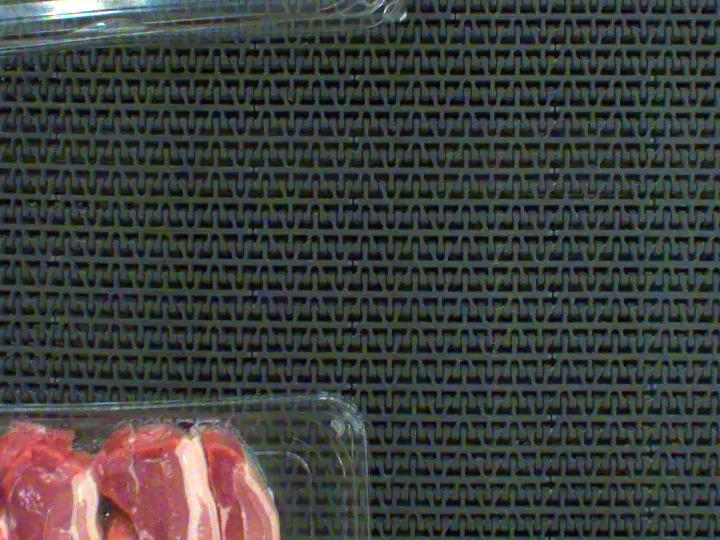packaging-error: (0, 396, 285, 475)
